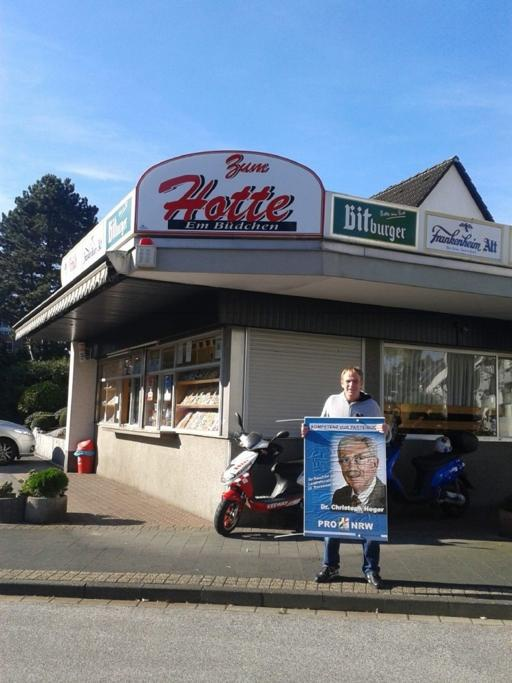non-vehicle: (213, 412, 303, 534), (385, 413, 477, 515)
